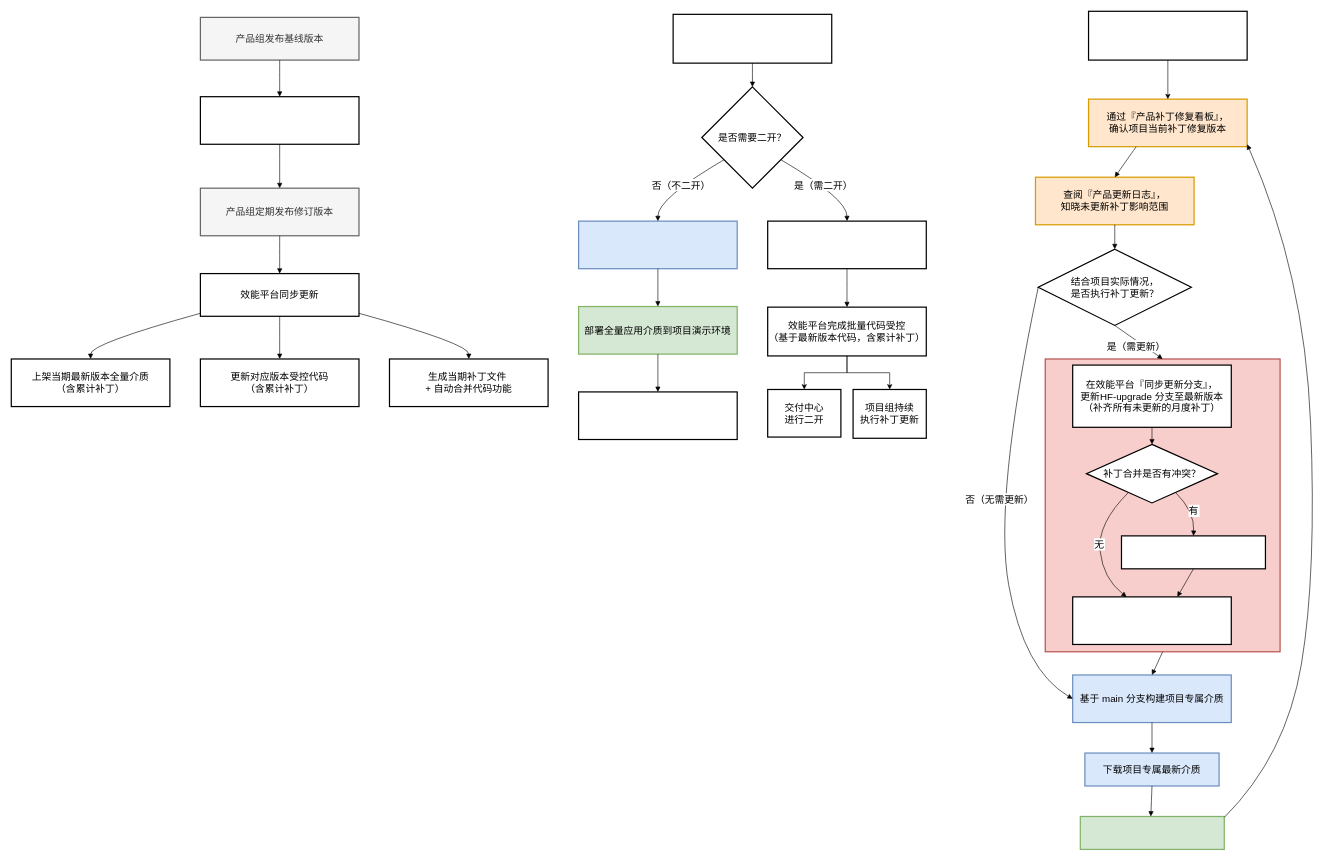
This 1323x860 diagram has some shape labels left out. Here are the shapes that lost their labels. From the top down, the centre of each, then its label:
the point at 752,38: 项目组申请产品
the point at 1167,35: 项目组执行补丁更新
the point at 279,120: 效能平台上架基线全量介质 +对应版本受控代码
the point at 657,244: 在效能平台下载 当期最新版本全量应用介质
the point at 847,244: 通过OA系统提交代码受控申请
the point at 657,415: 完成产品使用
the point at 1193,552: 请二开中心研发解决冲突
the point at 1152,620: 在效能平台『合并代码』，将 HF-upgrade 分支合并到 main 分支
the point at 1152,833: 部署专属介质到生产环境
